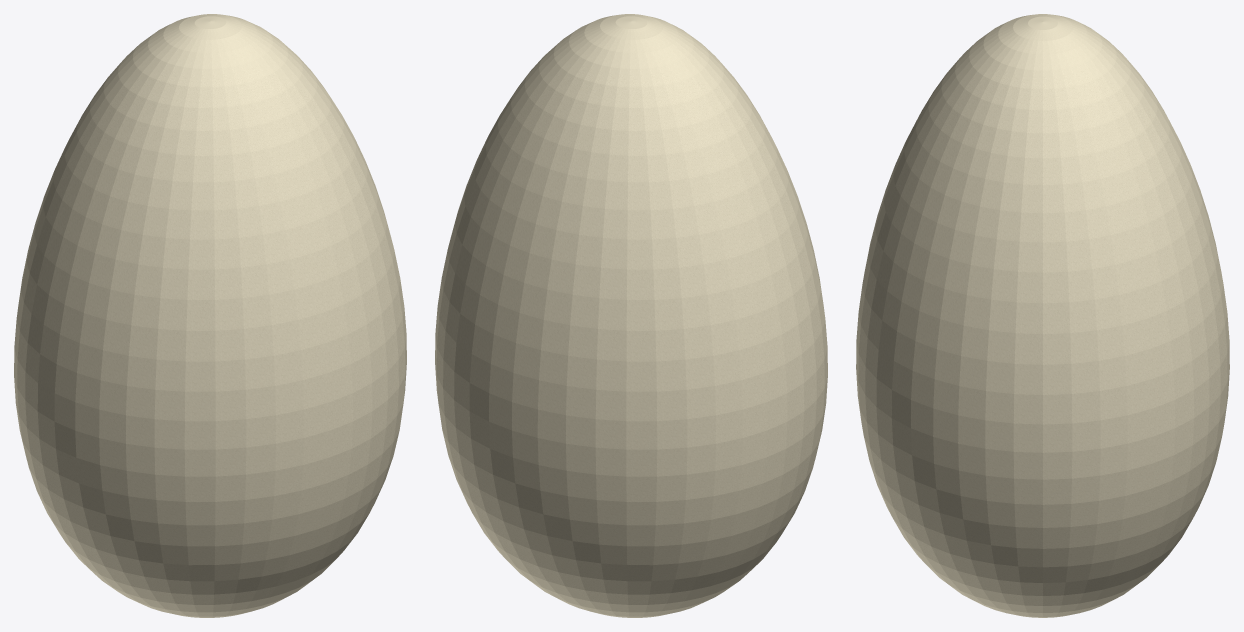
Rendered from house_egg.obj.
3 renders of one model, left to right at view 1: azimuth 30°, elevation 25°; view 2: azimuth 150°, elevation 25°; view 3: azimuth 270°, elevation 25°, orthographic.
Parts seen in each view (by area): view 1: house_egg; view 2: house_egg; view 3: house_egg.
Part boxes in pixels (x1,y1,x2,y2): house_egg: (14,14,406,617); house_egg: (435,14,827,617); house_egg: (856,14,1229,617).
Size of the model in its own units: 0.993 by 1.6 by 0.9335.
1 material, 1 textured.
